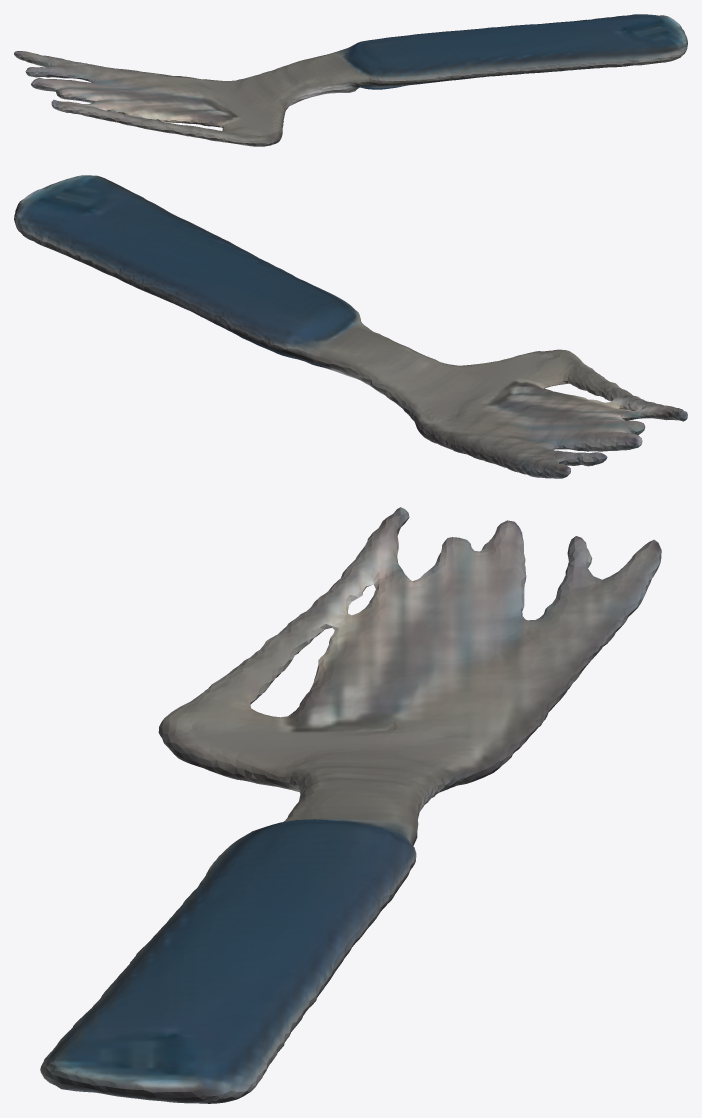
File: mesh_scaled.obj
3 renders of one model, top to bottom at view 1: azimuth 30°, elevation 25°; view 2: azimuth 150°, elevation 25°; view 3: azimuth 270°, elevation 25°, orthographic. The views are drawn at different scales.
Bounding box in the file's own units: 0.1908 × 0.0152 × 0.0906.
Materials: 1 (1 with a texture image).
